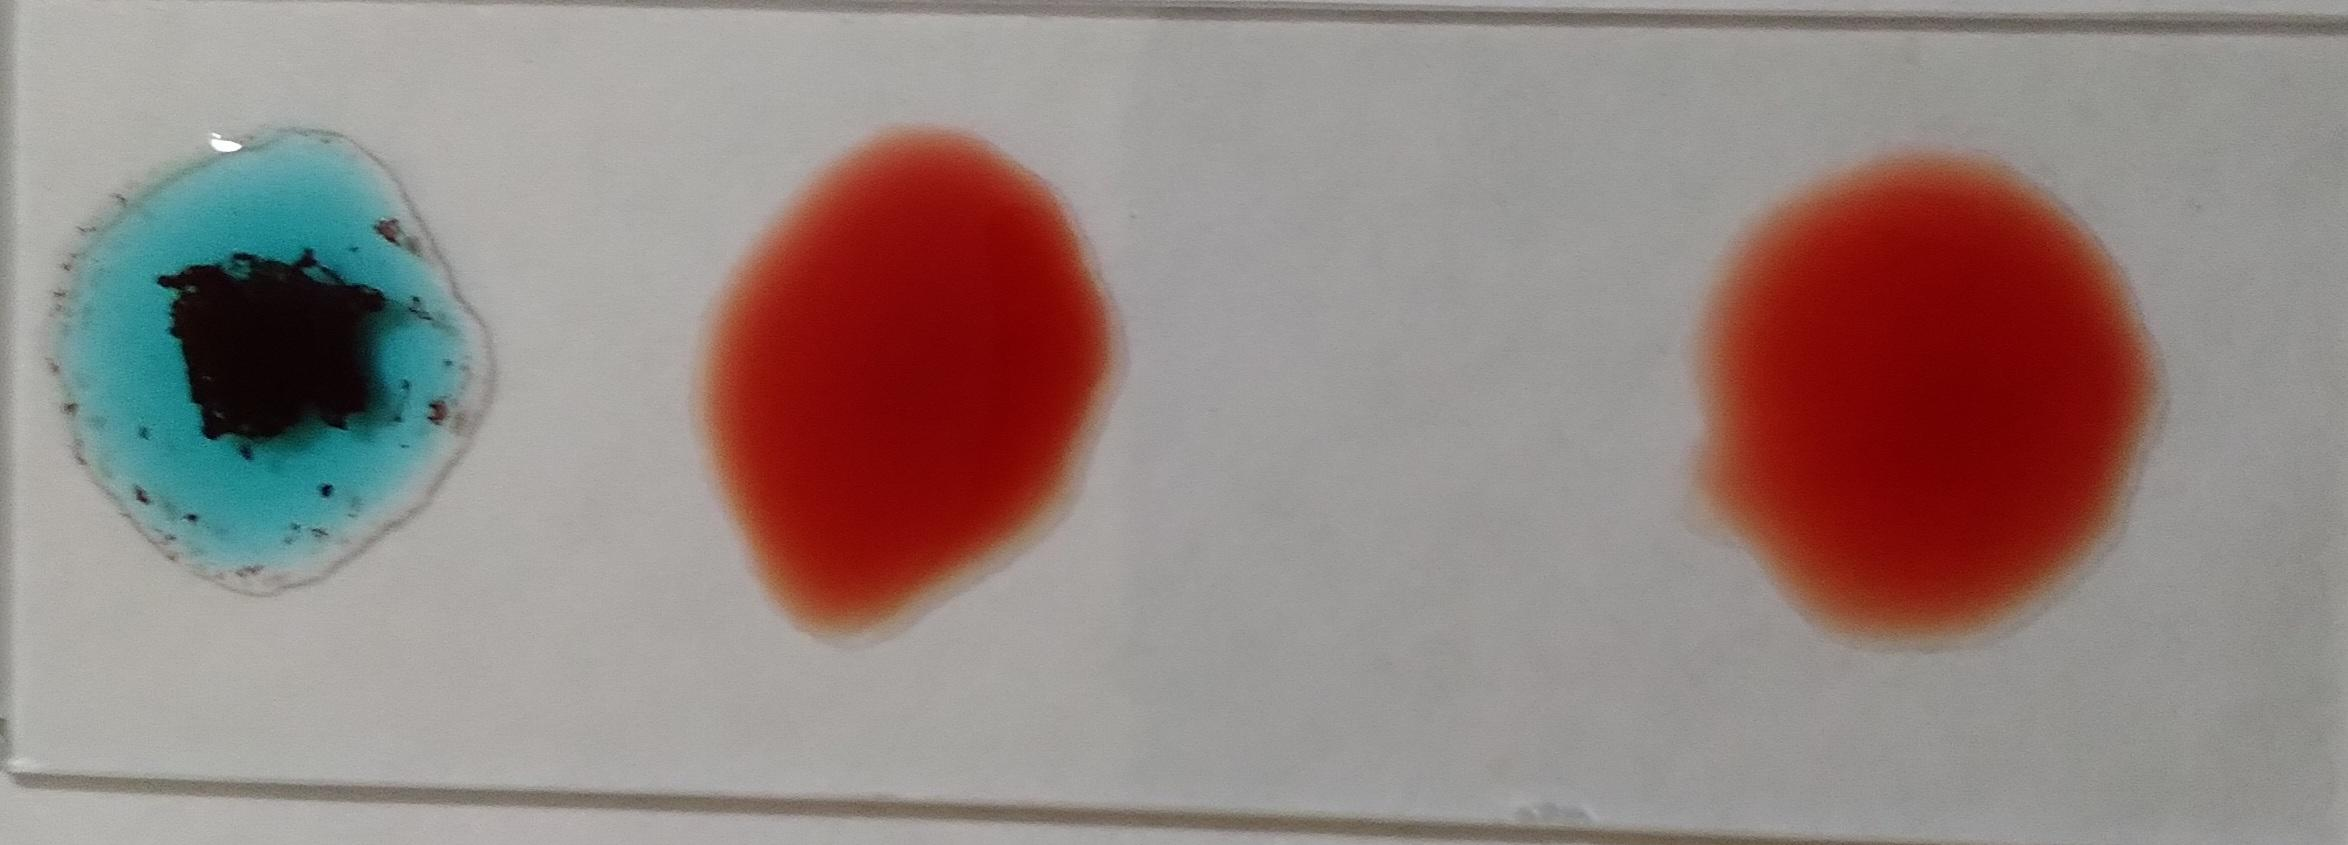A: (55, 120, 470, 595)
